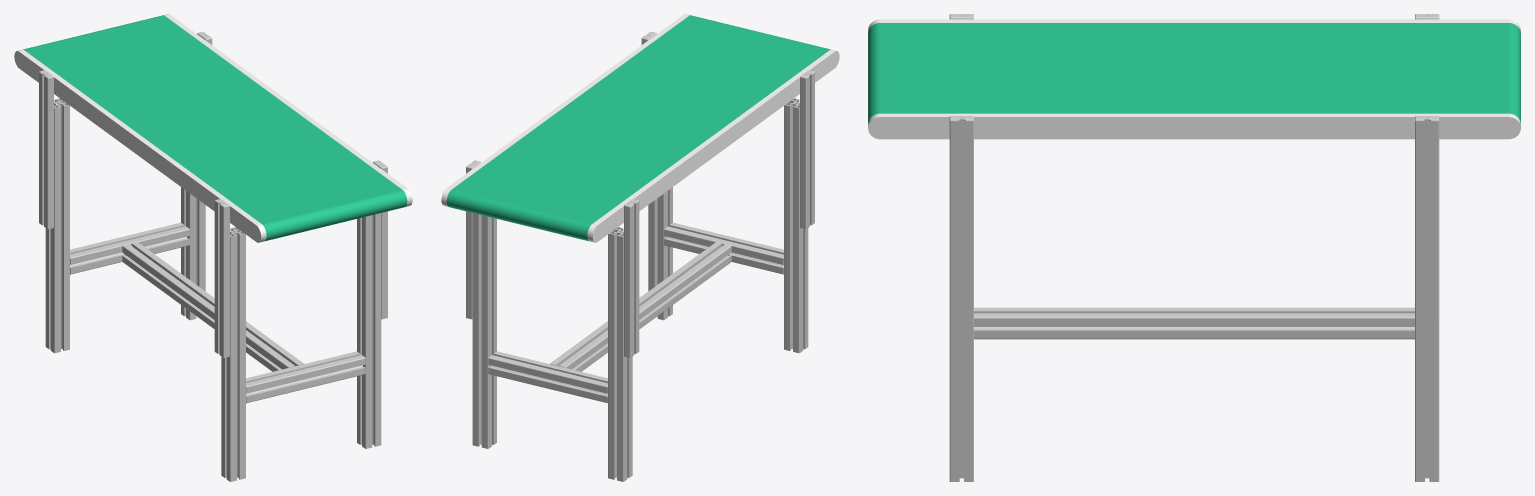
File: conveyor_belt.dae
The picture shows the model from 3 angles, left to right: view 1: azimuth 30°, elevation 25°; view 2: azimuth 150°, elevation 25°; view 3: azimuth 270°, elevation 25°; orthographic projection. The views are drawn at different scales.
Parts seen in each view (by area): view 1: node; view 2: node; view 3: node.
Boxes of the visible parts, x1=… form: node: x1=14, y1=14, x2=412, y2=481; node: x1=441, y1=14, x2=839, y2=481; node: x1=868, y1=14, x2=1520, y2=481.
Bounding box in the file's own units: 0.463 × 1.2 × 0.743.
